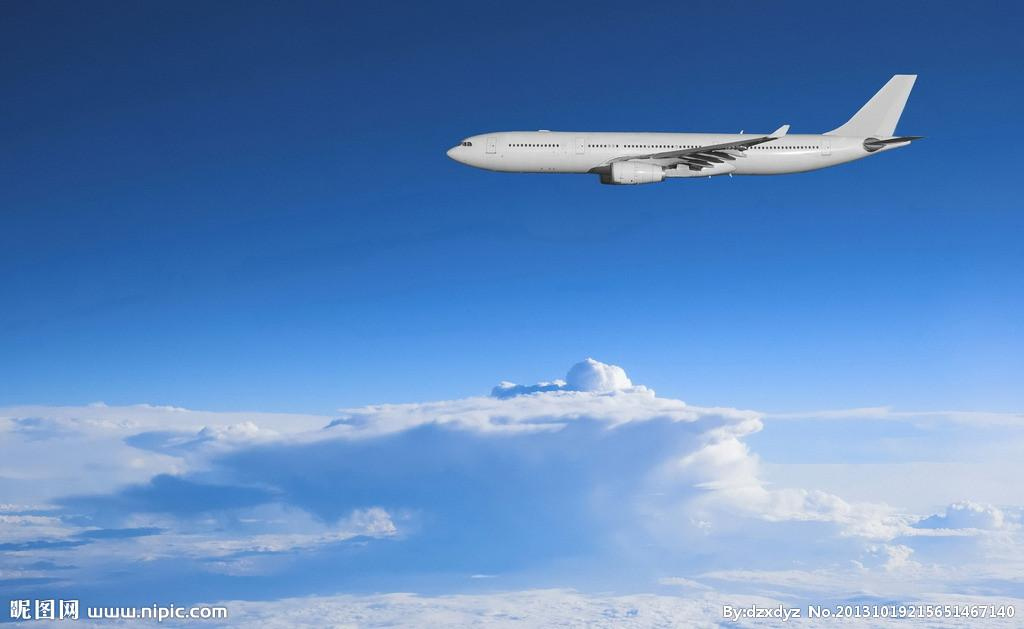airplane: (443, 66, 927, 193)
